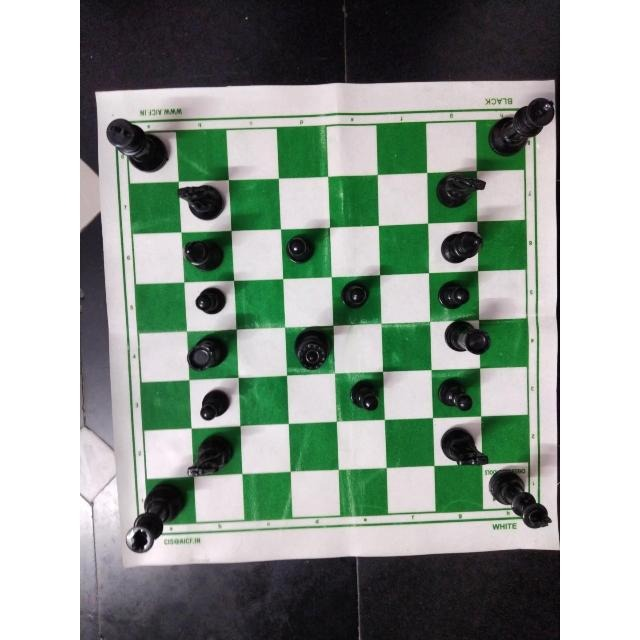black-bishop: (433, 226, 493, 270), (181, 233, 233, 277)
black-king: (124, 482, 188, 558), (486, 468, 556, 534), (489, 95, 555, 161), (100, 116, 172, 176)
black-knight: (429, 424, 493, 468), (184, 433, 240, 481), (432, 172, 492, 213), (171, 183, 228, 221)
black-pawn: (435, 372, 478, 416), (192, 384, 234, 426), (278, 230, 319, 270), (433, 274, 477, 310), (343, 378, 384, 416), (338, 278, 377, 316), (191, 283, 231, 317)
black-queen: (287, 324, 335, 372)
black-rook: (439, 315, 497, 360), (180, 331, 233, 374)
